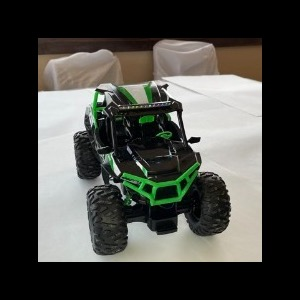polaris: (74, 80, 232, 257)
